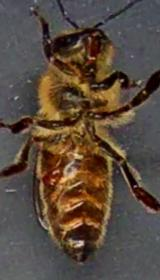varroa_mite: (40, 154, 74, 196)
